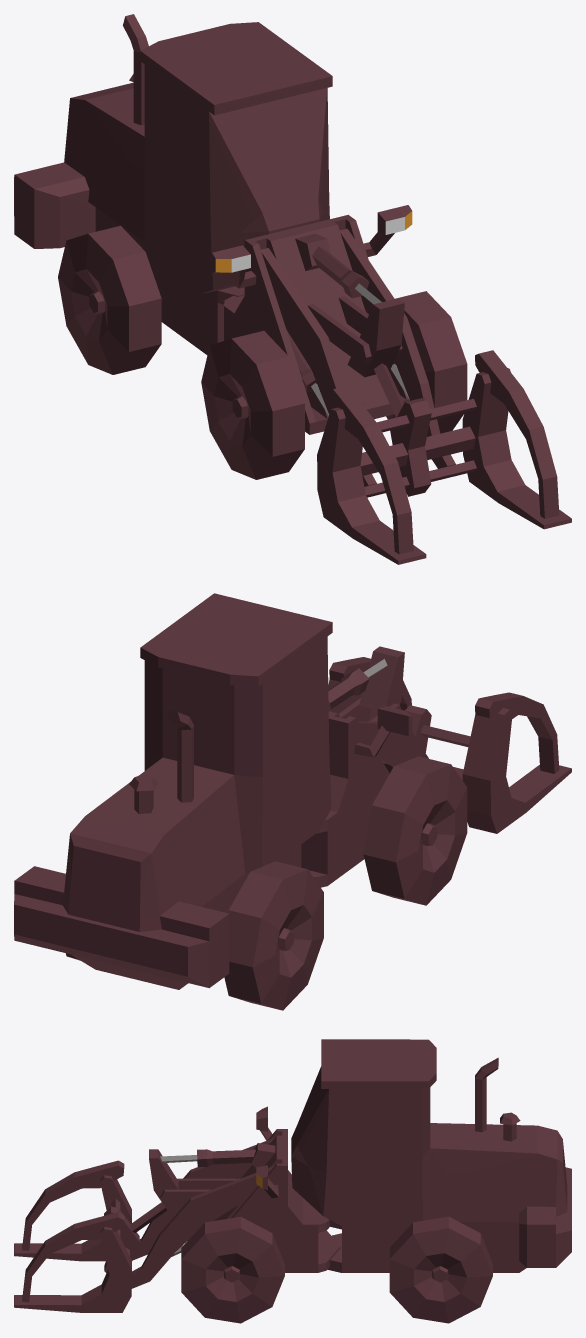
The model's file is SM_Tractor_Loader.fbx.
3 renders of one model, top to bottom at view 1: azimuth 30°, elevation 25°; view 2: azimuth 150°, elevation 25°; view 3: azimuth 270°, elevation 25°, orthographic. The views are drawn at different scales.
Parts seen in each view (by area): view 1: SM_Tractor_Loader_Base, SM_Tractor_Loader_Grapple_Down, SM_Tractor_Loader_Wheel_BR, SM_Tractor_Loader_Wheel_FR, SM_Tractor_Loader_Grapple_Top, SM_Tractor_Loader_Arm, SM_Tractor_Loader_Hydraulic_Middle, SM_Tractor_Loader_Wheel_FL, SM_Tractor_Loader_Hydraulic_Top, SM_Tractor_Loader_Hydraulic_Down; view 2: SM_Tractor_Loader_Base, SM_Tractor_Loader_Wheel_FR, SM_Tractor_Loader_Wheel_BR, SM_Tractor_Loader_Grapple_Down, SM_Tractor_Loader_Grapple_Top, SM_Tractor_Loader_Hydraulic_Middle, SM_Tractor_Loader_Arm, SM_Tractor_Loader_Hydraulic_Top; view 3: SM_Tractor_Loader_Base, SM_Tractor_Loader_Wheel_BL, SM_Tractor_Loader_Wheel_FL, SM_Tractor_Loader_Grapple_Down, SM_Tractor_Loader_Arm, SM_Tractor_Loader_Grapple_Top, SM_Tractor_Loader_Hydraulic_Middle, SM_Tractor_Loader_Hydraulic_Top.
Boxes of the visible parts, x1,y1,x2,y2 form: SM_Tractor_Loader_Base: [14, 14, 412, 434]; SM_Tractor_Loader_Grapple_Down: [317, 368, 571, 564]; SM_Tractor_Loader_Wheel_BR: [58, 225, 161, 374]; SM_Tractor_Loader_Wheel_FR: [201, 330, 304, 479]; SM_Tractor_Loader_Grapple_Top: [329, 350, 559, 554]; SM_Tractor_Loader_Arm: [261, 228, 455, 486]; SM_Tractor_Loader_Hydraulic_Middle: [308, 296, 404, 417]; SM_Tractor_Loader_Wheel_FL: [386, 291, 467, 433]; SM_Tractor_Loader_Hydraulic_Top: [312, 246, 381, 304]; SM_Tractor_Loader_Hydraulic_Down: [286, 310, 409, 415]; SM_Tractor_Loader_Base: [14, 593, 412, 989]; SM_Tractor_Loader_Wheel_FR: [363, 756, 467, 905]; SM_Tractor_Loader_Wheel_BR: [224, 861, 323, 1010]; SM_Tractor_Loader_Grapple_Down: [328, 679, 571, 833]; SM_Tractor_Loader_Grapple_Top: [329, 657, 559, 773]; SM_Tractor_Loader_Hydraulic_Middle: [338, 646, 404, 721]; SM_Tractor_Loader_Arm: [332, 711, 428, 767]; SM_Tractor_Loader_Hydraulic_Top: [328, 659, 387, 708]; SM_Tractor_Loader_Base: [213, 1039, 571, 1272]; SM_Tractor_Loader_Wheel_BL: [389, 1216, 492, 1323]; SM_Tractor_Loader_Wheel_FL: [181, 1216, 284, 1323]; SM_Tractor_Loader_Grapple_Down: [14, 1175, 139, 1312]; SM_Tractor_Loader_Arm: [131, 1137, 274, 1288]; SM_Tractor_Loader_Grapple_Top: [22, 1160, 124, 1302]; SM_Tractor_Loader_Hydraulic_Middle: [129, 1149, 239, 1232]; SM_Tractor_Loader_Hydraulic_Top: [160, 1149, 255, 1167].
Bounding box in the file's own units: 1.89 × 2.78 × 6.16.
